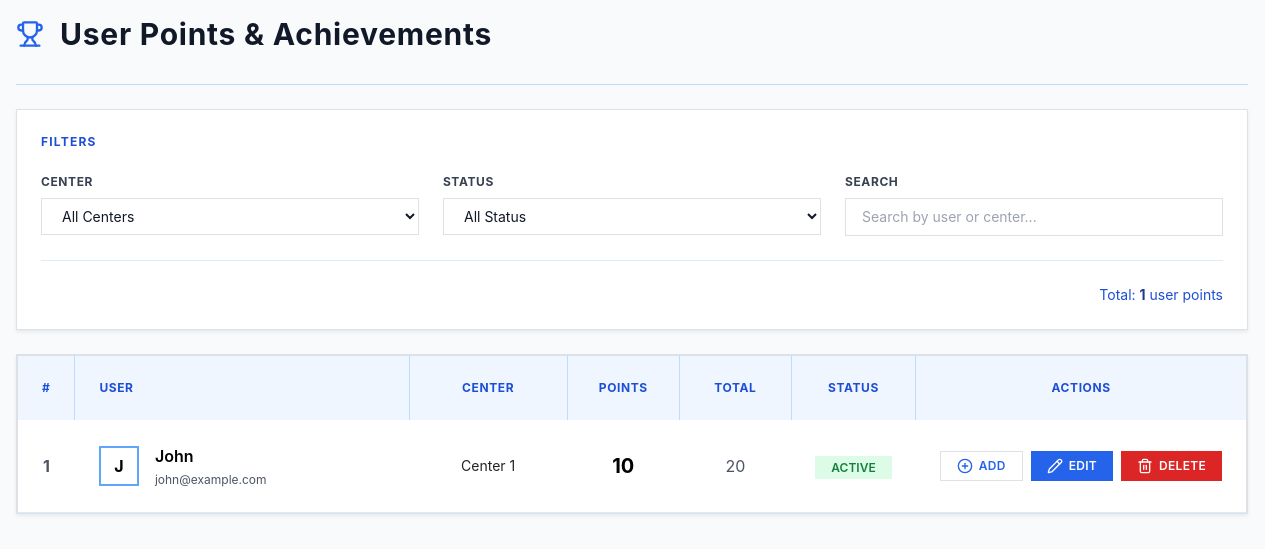
Scenario: pages/Admin/UserPointsManagement › filters by search term to empty state
Expected: the heading "User Points & Achievements" is shown, [16,16,492,52]
Type "no-match" into the field with placeholder "Search by user or center..." at (1034, 217), box [845,198,1223,236]
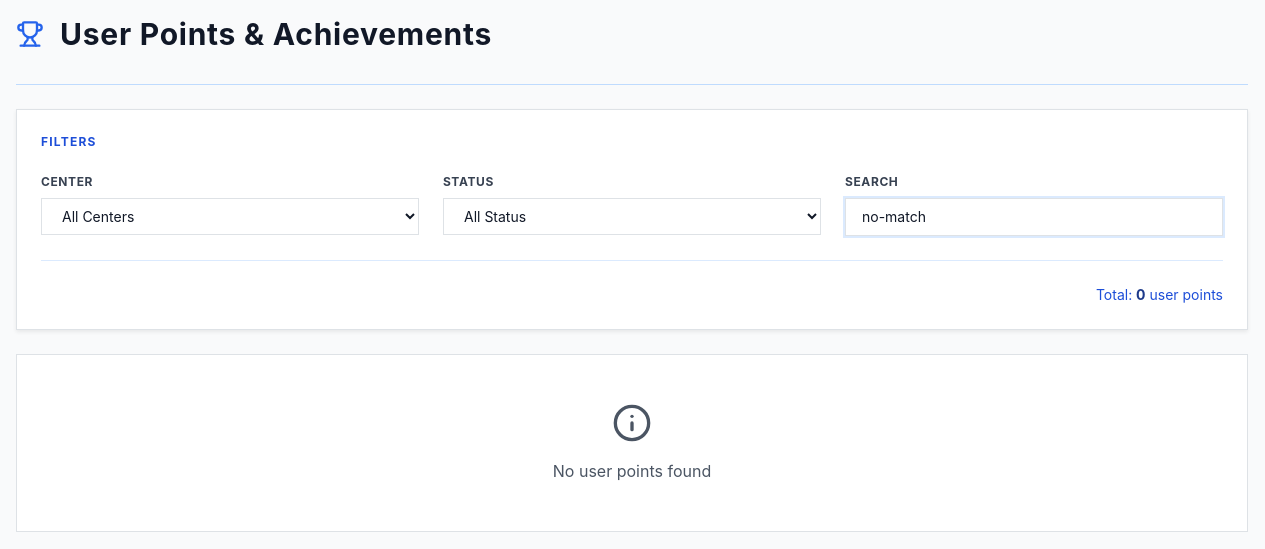
Expected: the text "No user points found" is shown, [553,403,711,481]
